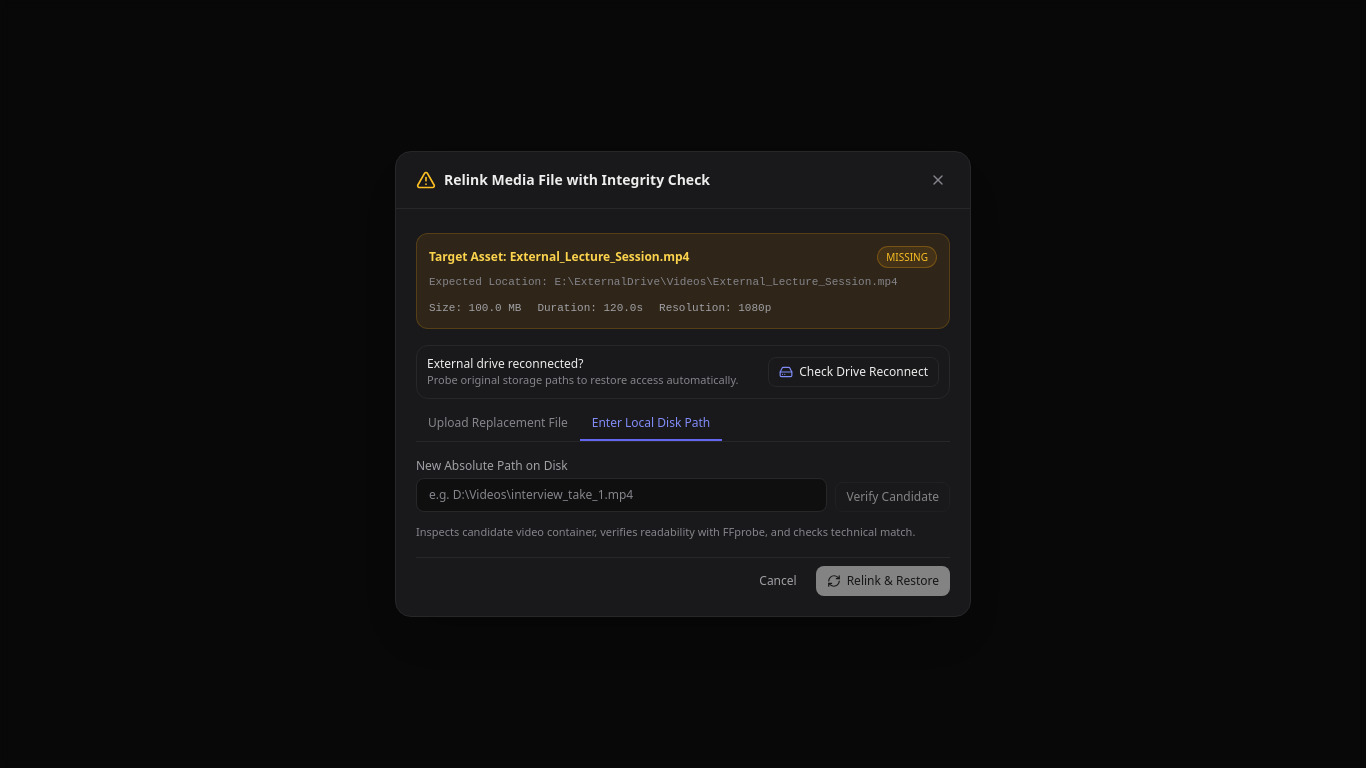
Scenario: P1.7 Media Relinking, Missing File Recovery & External Media Handling › executes atomic relink with force flag and calls onSuccess callback
Type "D:\\Videos\\Restored_Session.mp4" into the field with placeholder "e.g. D:\\Videos\\interview_take_1.mp4" at {"x": 622, "y": 495}, box [416, 478, 827, 512]
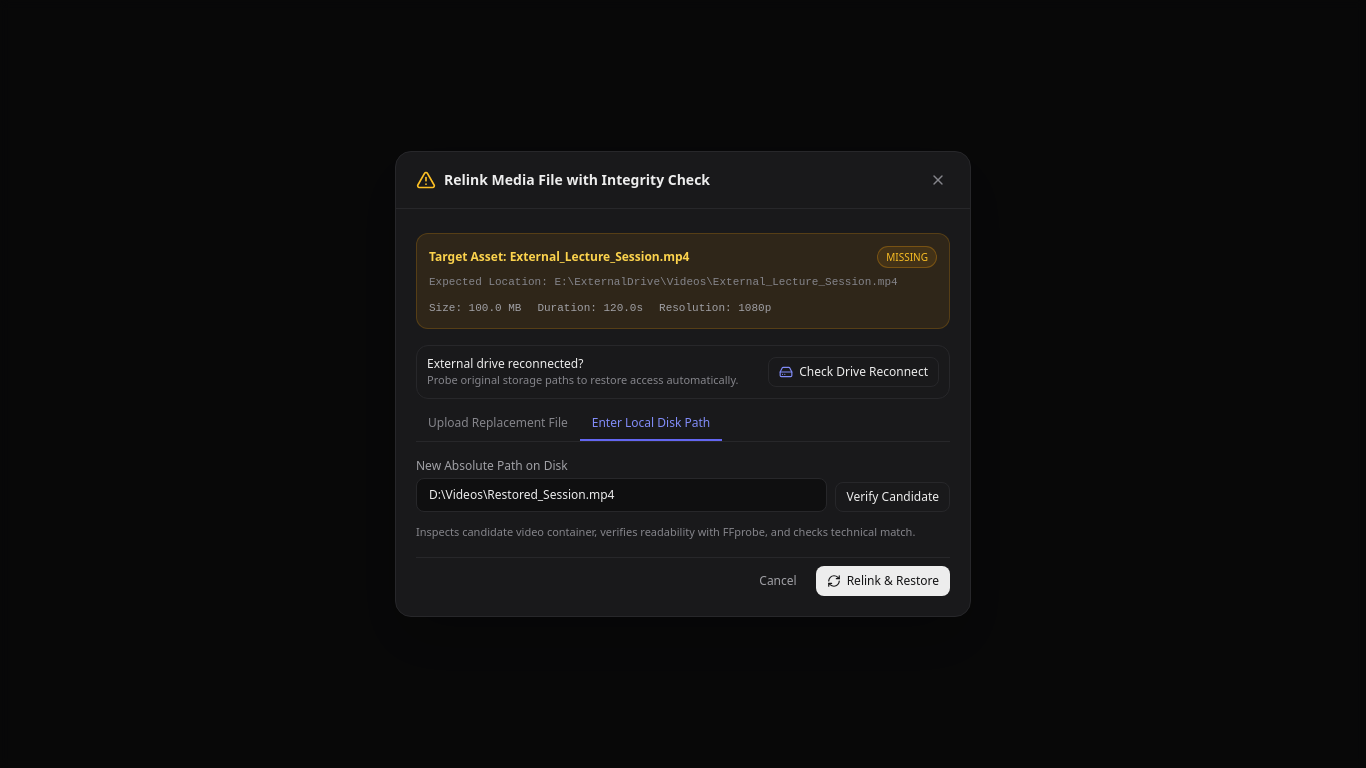
Click the button "Relink & Restore" at {"x": 883, "y": 581}, box [816, 566, 950, 596]
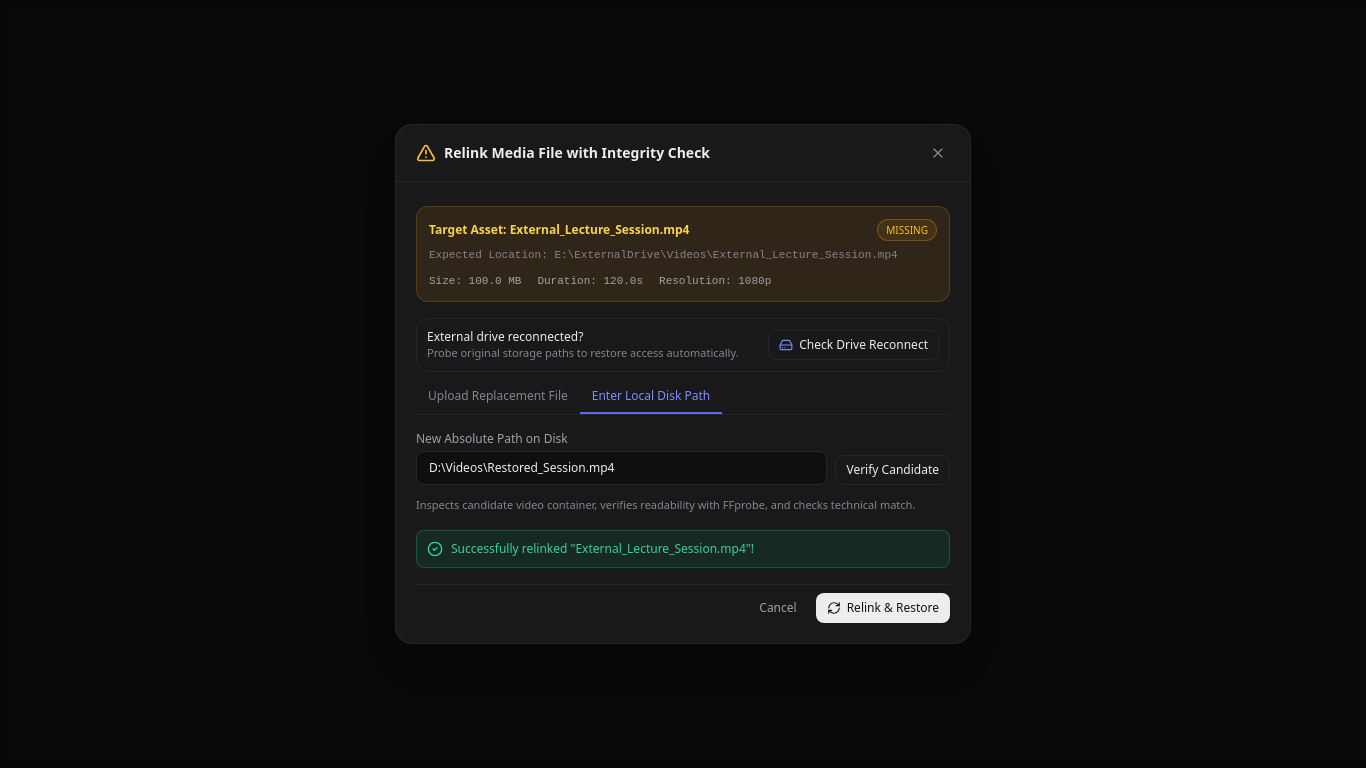
expect the text "Successfully relinked \"External_Lecture_Session.mp4\"!" is shown: met, box [451, 541, 754, 557]
